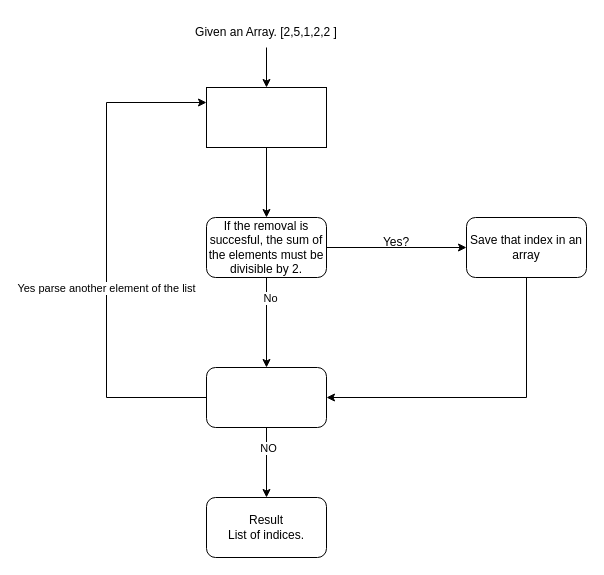
This 604x575 diagram has some shape labels left out. Here are the shapes that lost their labels. From the top down, the box of each, then its label:
(206, 86, 326, 148): You need to parse it to find an element that goes 1through n removing indexes.
(206, 366, 326, 428): Are there more indice?
